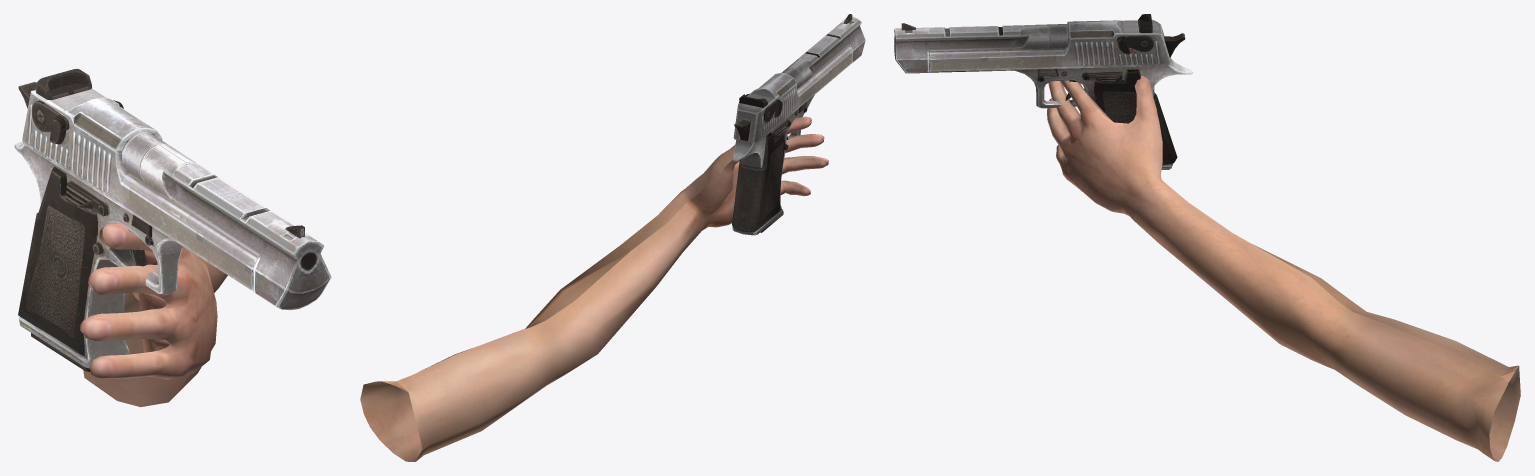
The model's file is eagle.glb.
The picture shows the model from 3 angles, left to right: view 1: azimuth 30°, elevation 25°; view 2: azimuth 150°, elevation 25°; view 3: azimuth 270°, elevation 25°; orthographic projection. The views are drawn at different scales.
Parts seen in each view (by area): view 1: Mesh_0003.rip_mat0.001_0, Object_15.001; view 2: Object_15.001, Mesh_0003.rip_mat0.001_0; view 3: Object_15.001, Mesh_0003.rip_mat0.001_0.
Boxes of the visible parts, x1,y1,x2,y2 form: Mesh_0003.rip_mat0.001_0: [14, 68, 331, 371]; Object_15.001: [80, 223, 227, 407]; Object_15.001: [360, 116, 828, 461]; Mesh_0003.rip_mat0.001_0: [732, 14, 865, 235]; Object_15.001: [1047, 76, 1520, 461]; Mesh_0003.rip_mat0.001_0: [894, 14, 1192, 169].
Bounding box in the file's own units: 0.8383 × 0.8655 × 1.47.
2 materials, 2 textured.
